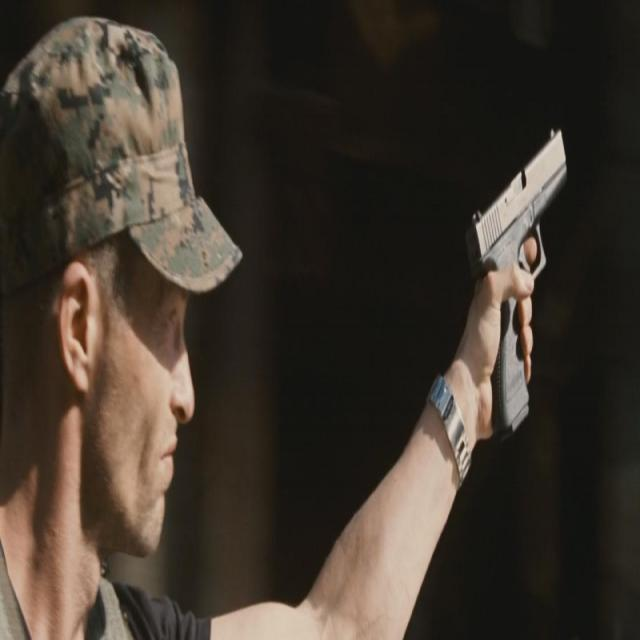gun-knife-thesis - v11 Yolov5 augmented: (457, 89, 570, 484)
